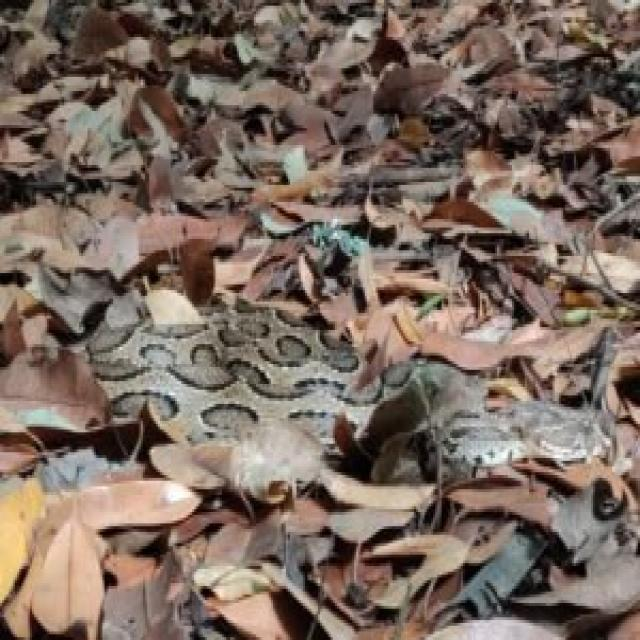Snake: (90, 321, 618, 486)
